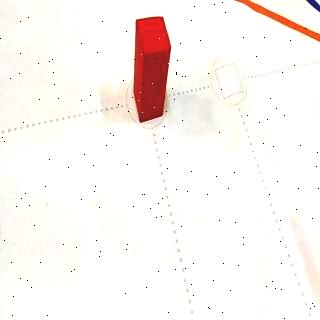redbox: (134, 15, 170, 123)
